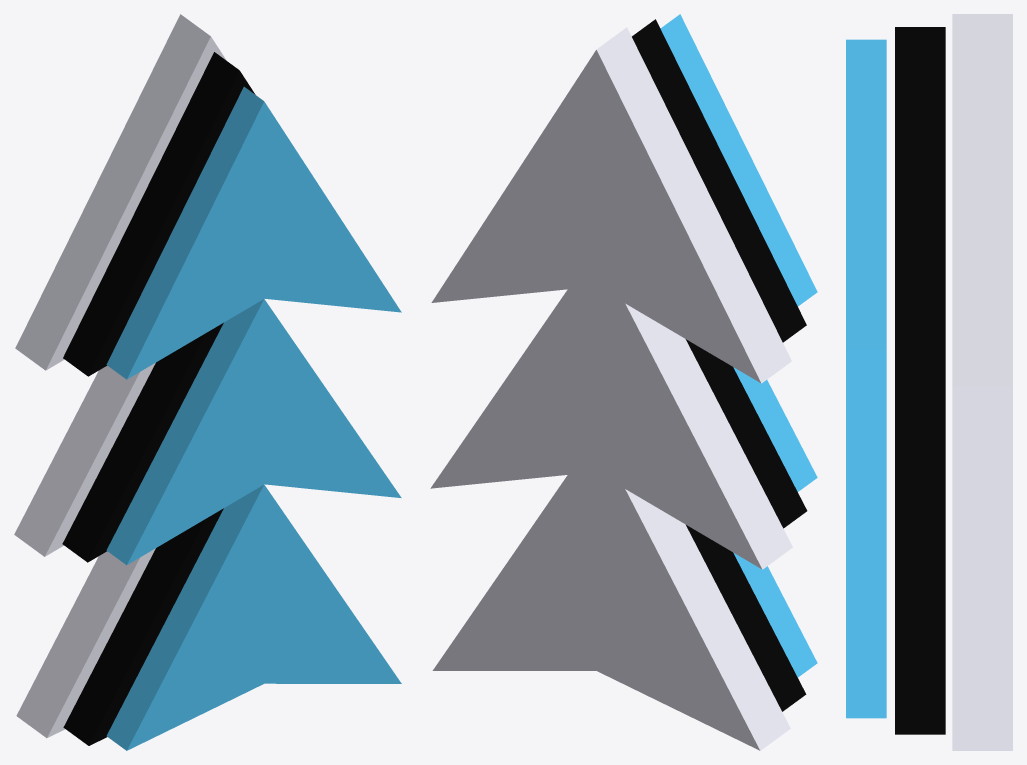
Rendered from playerArrow.obj.
3 views of the same model, side by side, from view 1: azimuth 30°, elevation 25°; view 2: azimuth 150°, elevation 25°; view 3: azimuth 270°, elevation 25° (orthographic).
Visible parts, largest first — view 1: 平面.003; view 2: 平面.003; view 3: 平面.003.
Part boxes in pixels (bbox=[...]): 平面.003: bbox=[14, 14, 401, 750]; 平面.003: bbox=[430, 14, 817, 750]; 平面.003: bbox=[846, 14, 1012, 750].
Bounding box in the file's own units: 2.65 × 5.04 × 1.16.
Materials: 1 (1 with a texture image).
